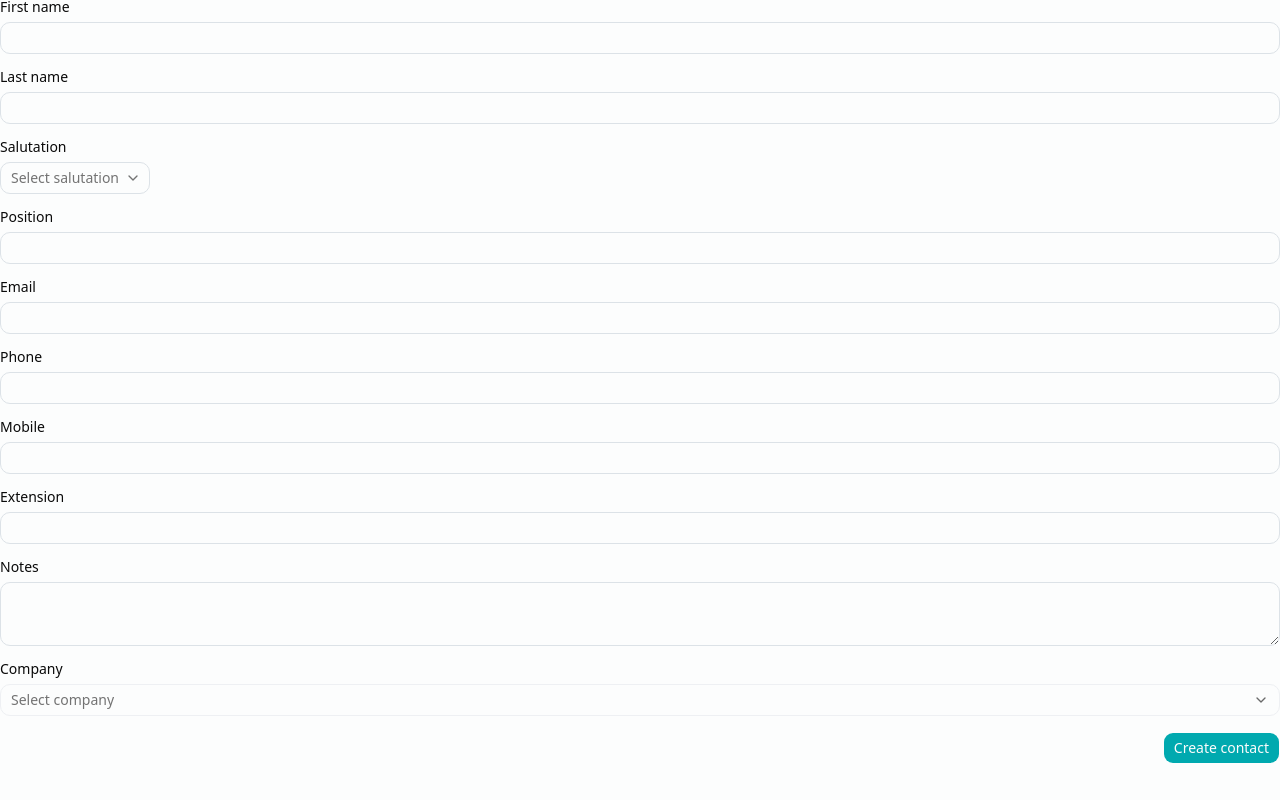
Test: ContactCreateForm + contactSchema › blocks submit when Email is present but invalid
Expected: the button "Select company" is shown, [0,684,1279,716]
In the field labelled "First name": (640, 38) [0,22,1279,54], type "Valid"
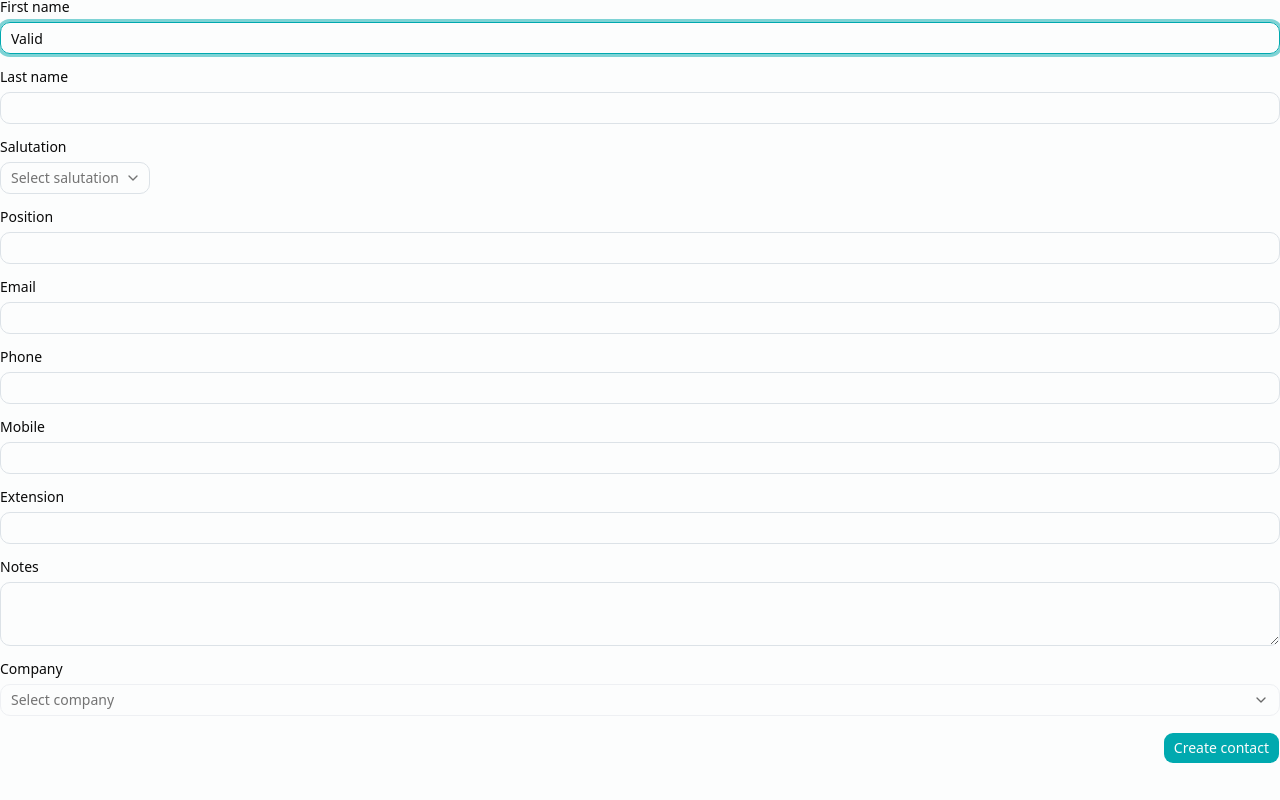
In the field labelled "Last name": (640, 108) [0,92,1279,124], type "Person"
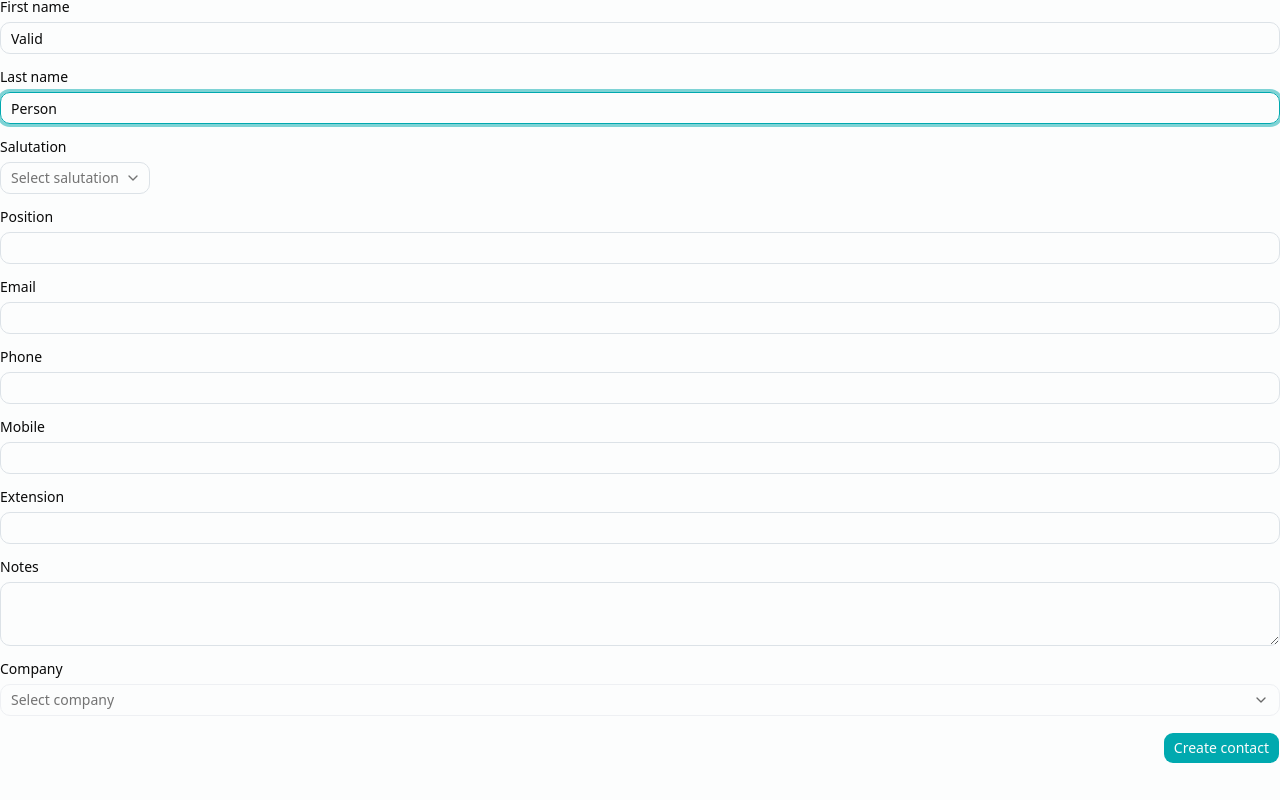
In the field labelled "Email": (640, 318) [0,302,1279,334], type "not-an-email"
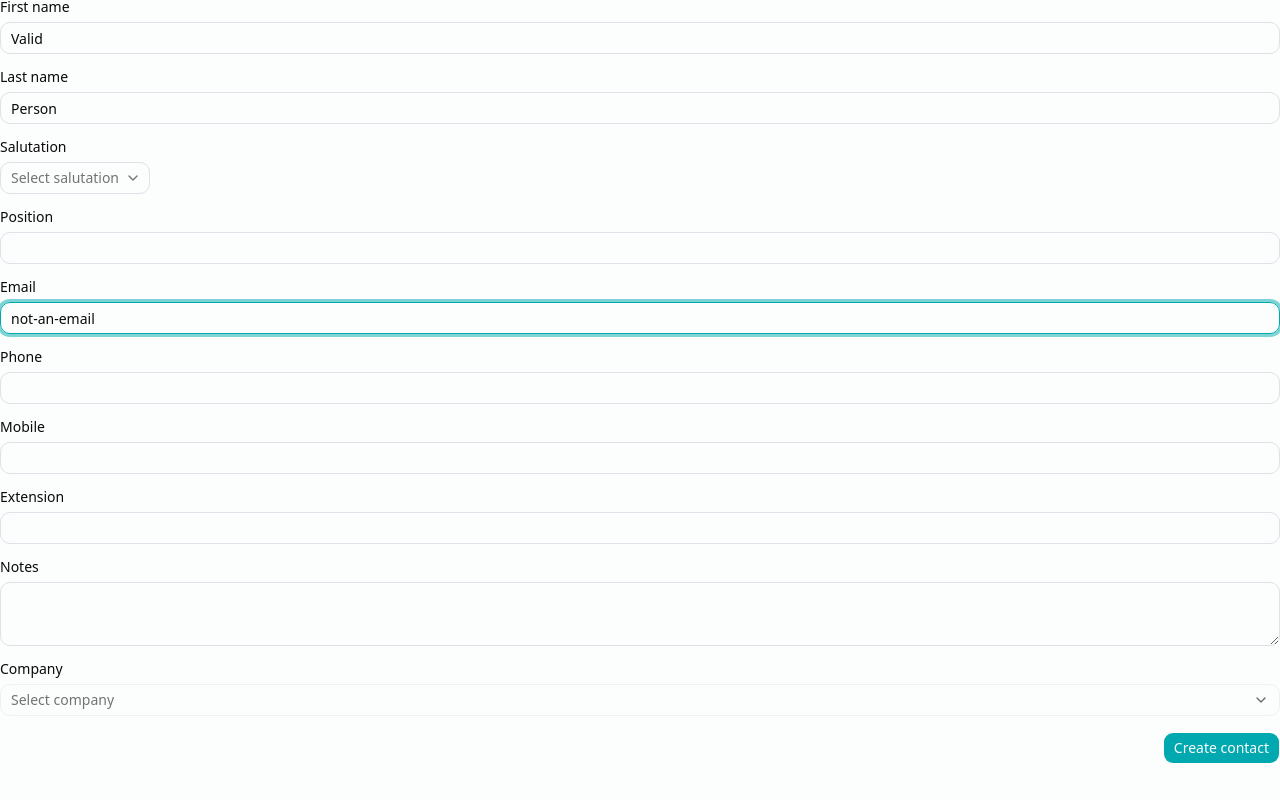
Click the button "Select company": (63, 700) [0,684,1279,716]
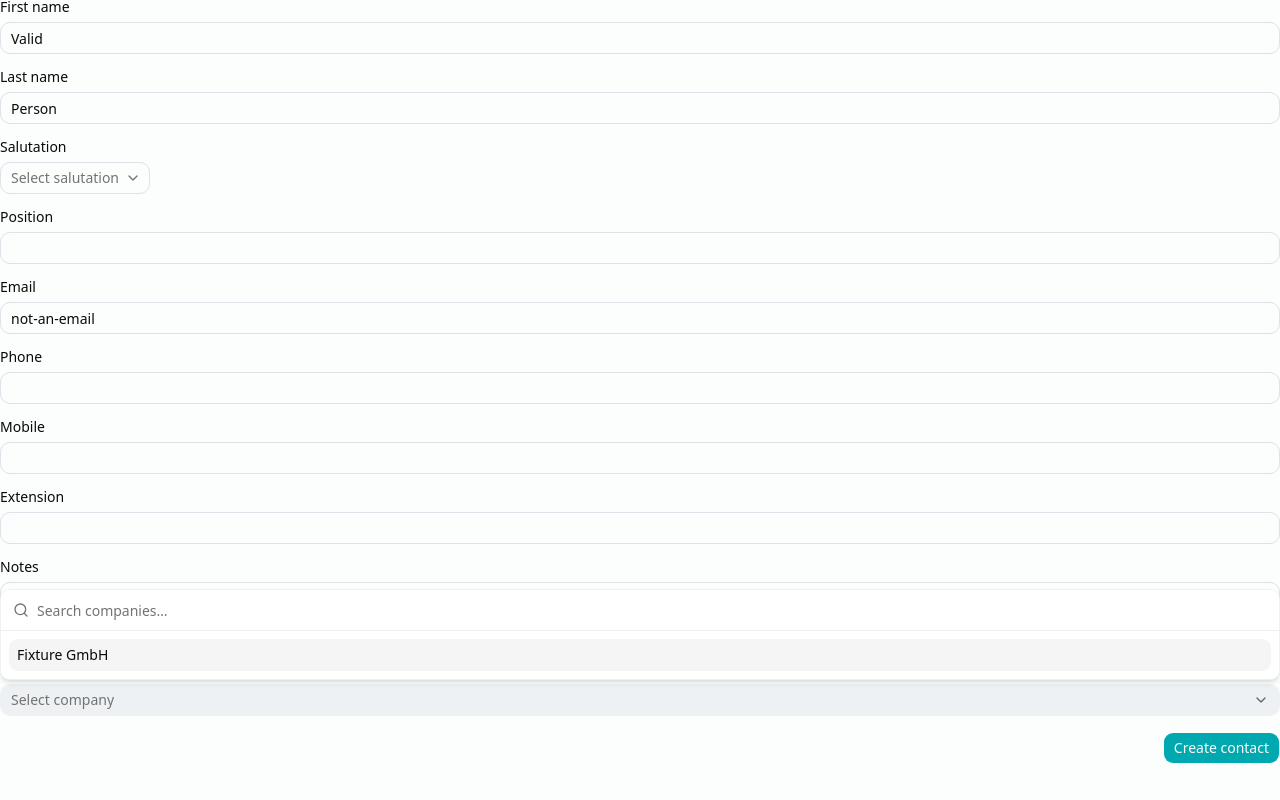
Result: the dropdown with placeholder "Search companies…" is shown at [37,590,1267,630]
Click the option "Fixture GmbH": (63, 654) [9,639,1271,671]
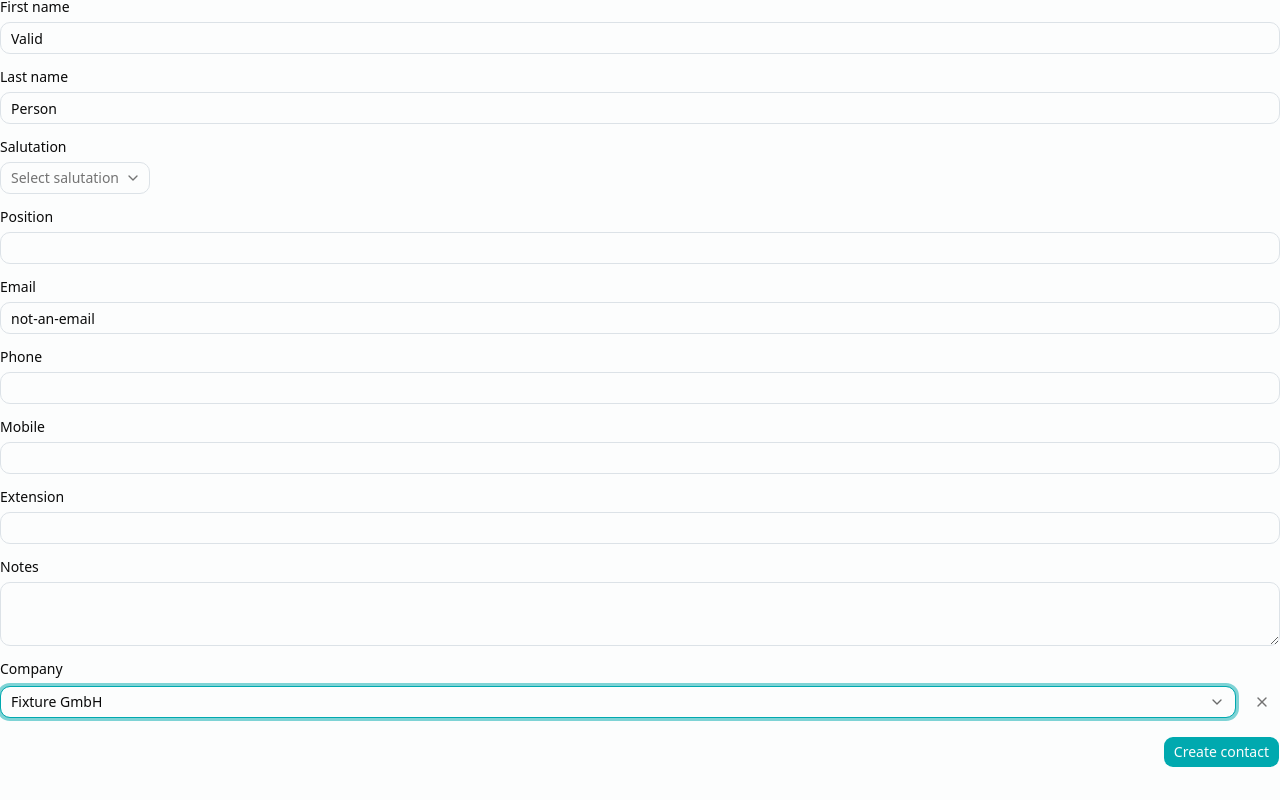
Click the button "Create contact": (1221, 752) [1163,736,1279,768]
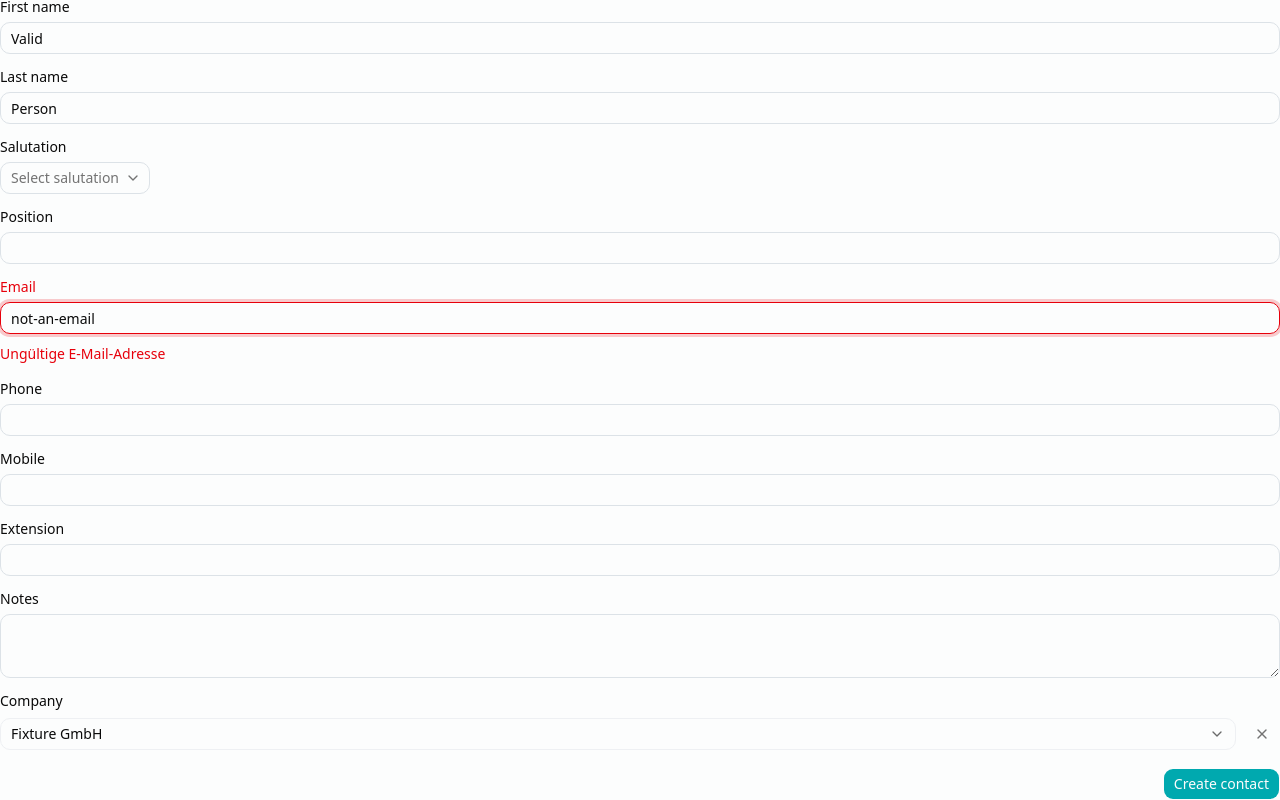
Result: the text "Ungültige E-Mail-Adresse" is shown at [0,344,165,363]
